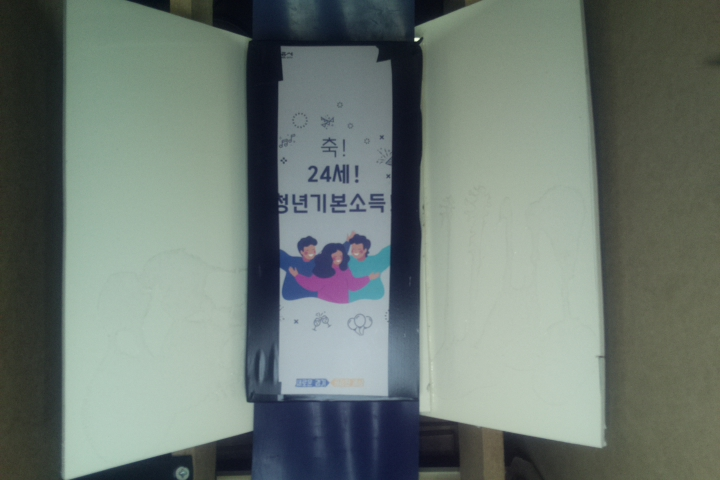book: (246, 39, 425, 404)
